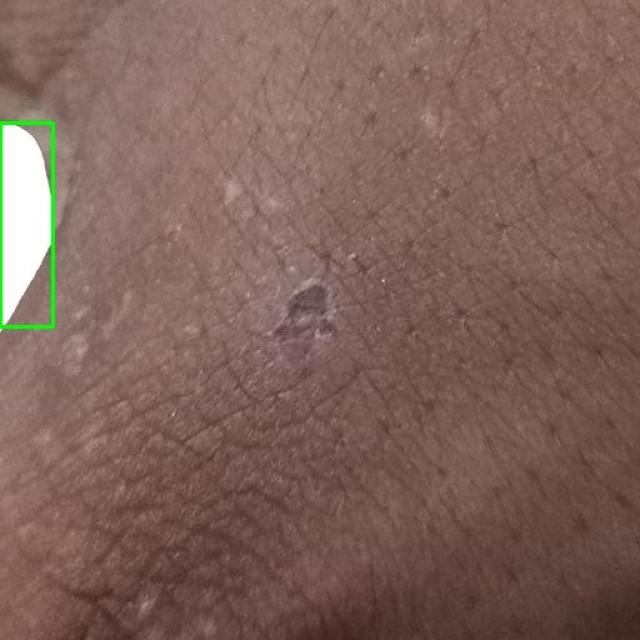Scabies: (0, 122, 52, 326)
